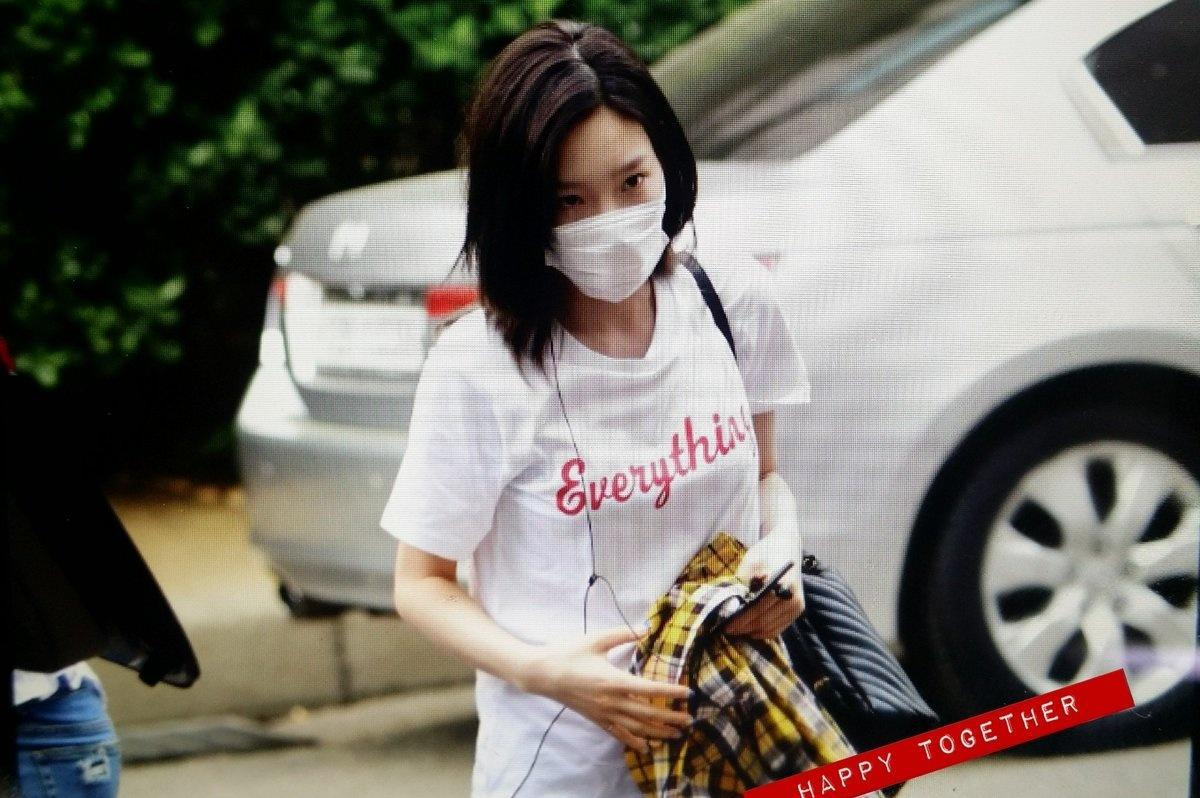OK: (533, 150, 682, 299)
